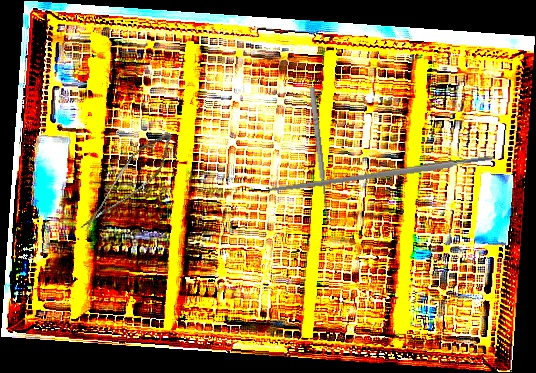Hook Surgical: (307, 86, 337, 221)
Micro Scissor: (80, 119, 179, 248)
Scalpel Handle: (267, 154, 497, 195)
